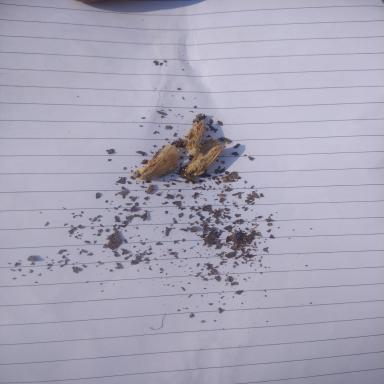abw: (182, 136, 231, 177), (132, 142, 181, 181)
